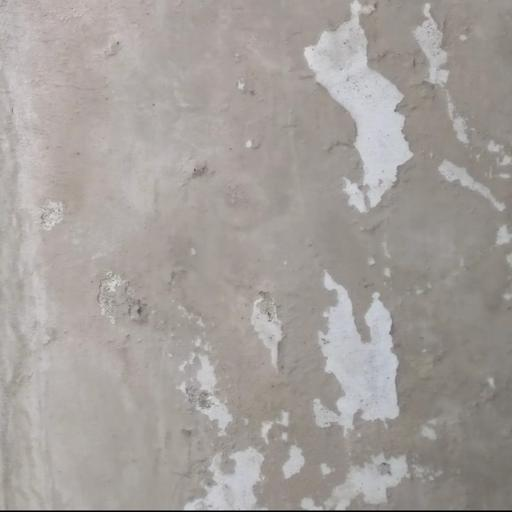peeling: (283, 0, 512, 262), (137, 305, 418, 512), (295, 250, 418, 427), (239, 270, 294, 380)
